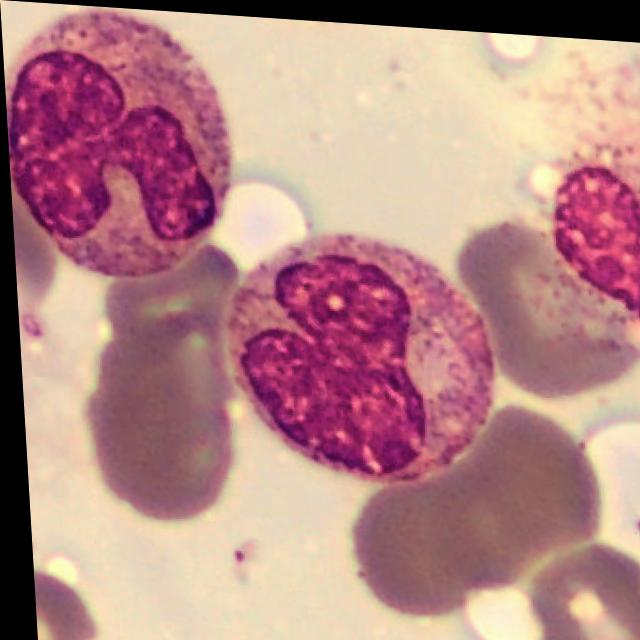Metamielocito: (218, 229, 493, 481)
Neutrofilo segmentado: (4, 6, 232, 280)
